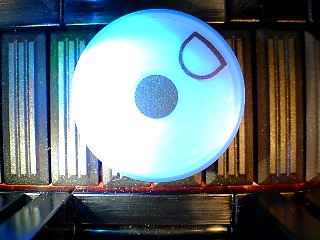BOHOMIPO1: (69, 8, 246, 182)
